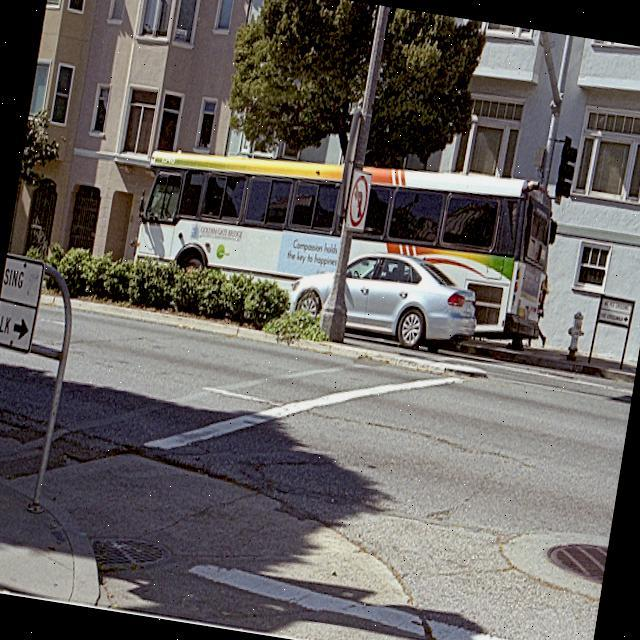fire_hydrant: (562, 310, 588, 362)
